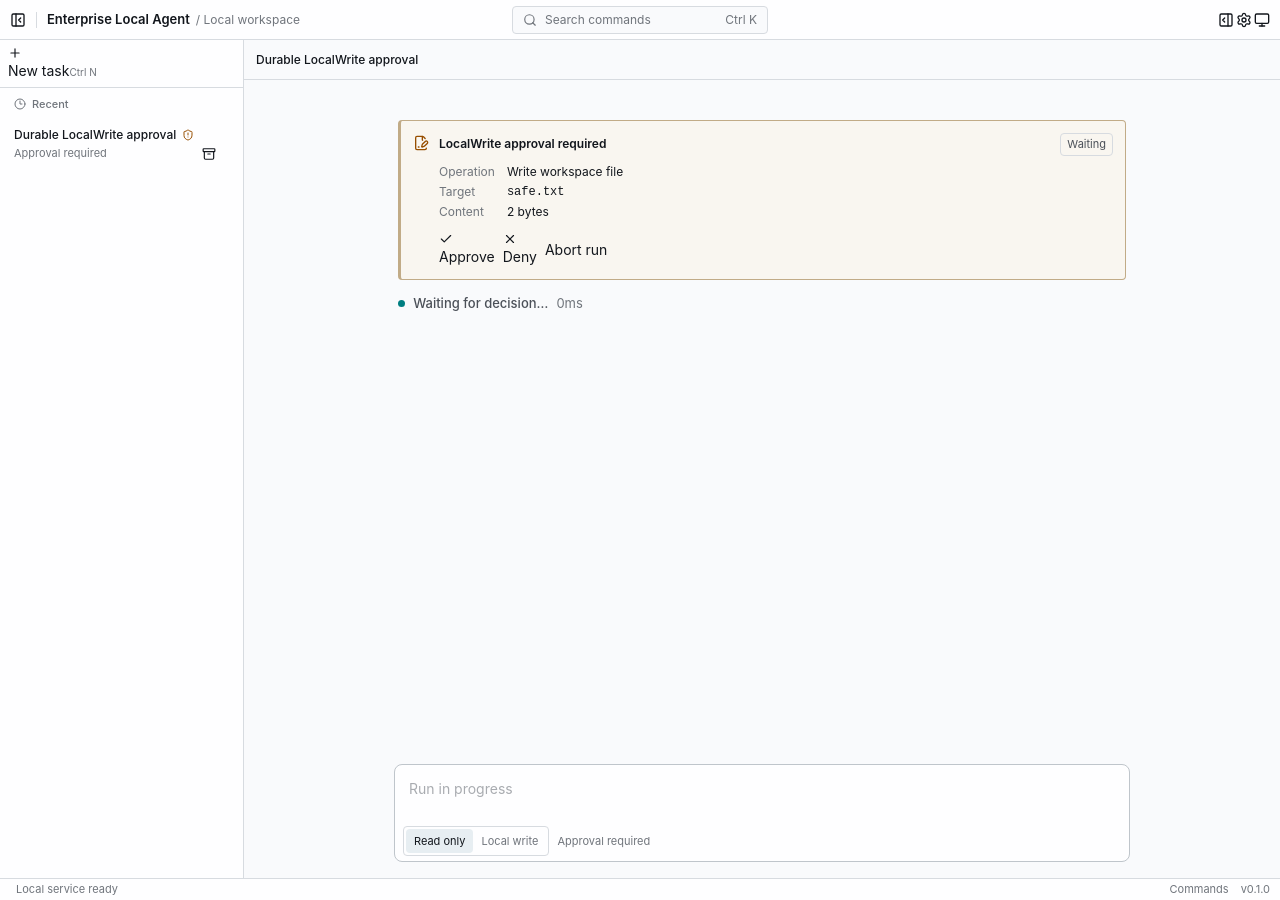
App conversation › sanitizes approval unauthorized failures without exposing action data
Click the button "Approve".
click(467, 249)  # box [439,232,495,266]
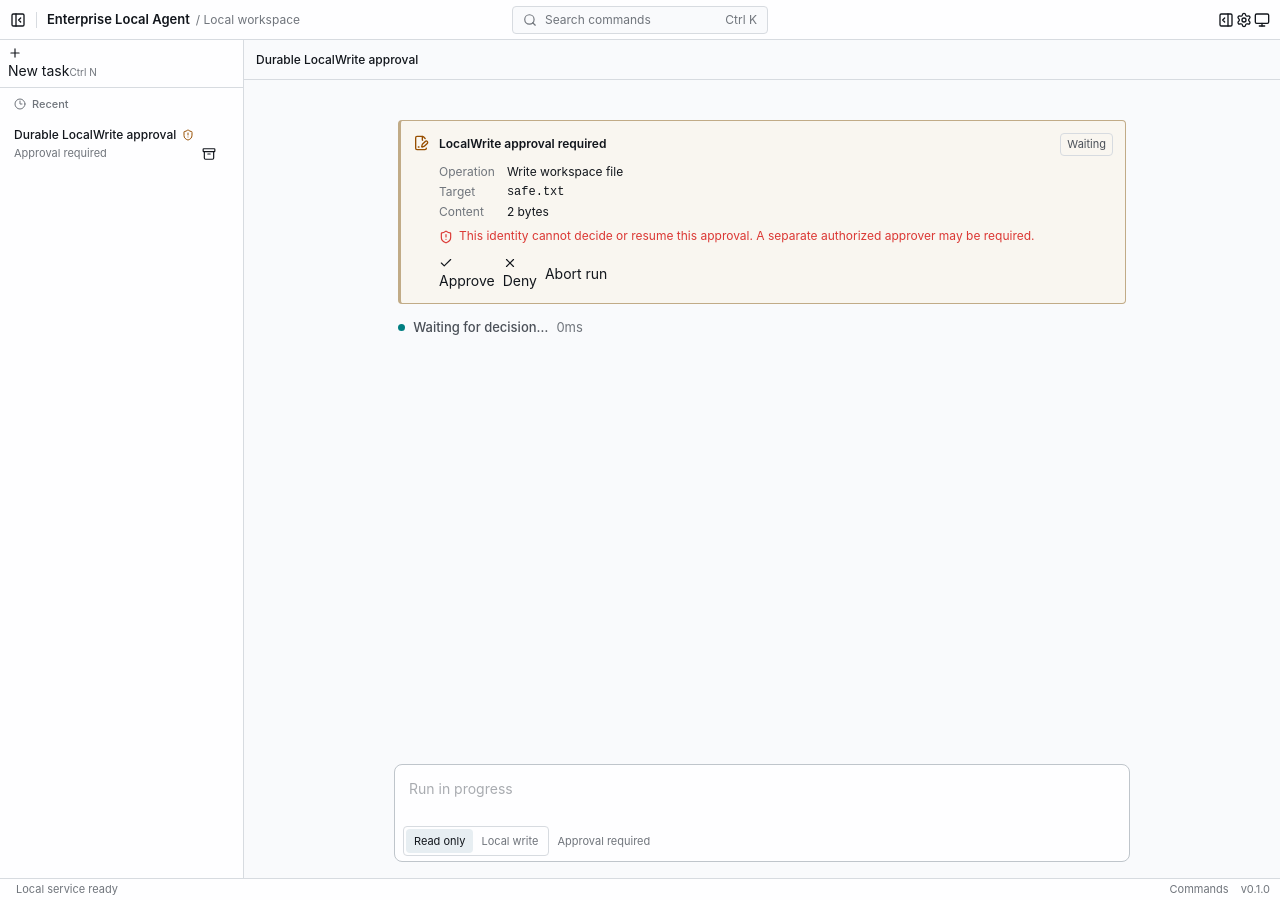
expect the 1st message shows "separate authorized approver": met, box [459,228,1034,242]
